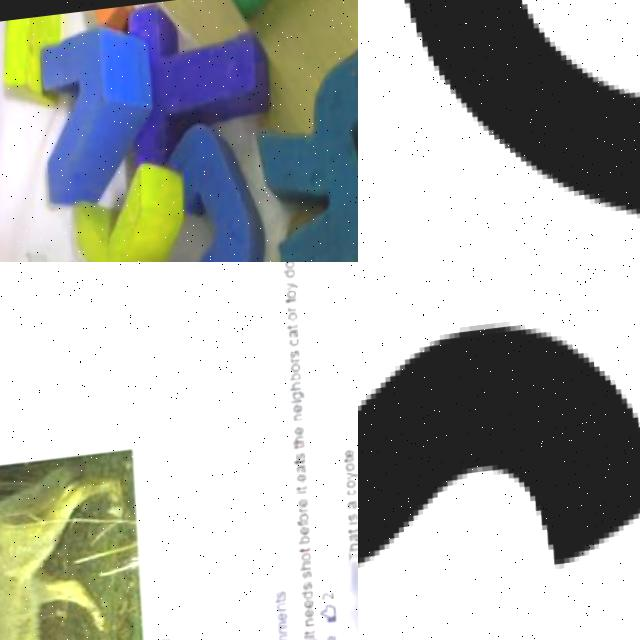2: (325, 590, 340, 600)
A: (289, 328, 302, 338), (299, 463, 311, 472), (350, 498, 358, 508), (351, 532, 358, 541)
B: (289, 370, 304, 380), (301, 534, 315, 544)
C: (290, 338, 302, 345), (350, 488, 358, 495)
D: (282, 268, 297, 278), (305, 589, 319, 599)
E: (282, 610, 295, 620), (345, 448, 358, 457), (300, 471, 311, 481), (295, 402, 306, 412), (309, 598, 319, 608), (302, 497, 312, 507), (309, 608, 321, 616), (304, 525, 314, 534), (297, 424, 307, 433), (332, 633, 342, 640), (164, 637, 177, 640)
F: (300, 518, 314, 526)
G: (294, 388, 308, 398)
H: (294, 434, 309, 444), (290, 380, 305, 390), (304, 560, 316, 570), (350, 541, 358, 551)
I: (308, 633, 322, 638), (292, 399, 305, 404), (299, 489, 311, 494), (349, 519, 358, 524)
K: (240, 15, 358, 262)
M: (282, 619, 295, 634), (282, 632, 296, 640)
N: (295, 411, 307, 420), (310, 617, 321, 626), (281, 602, 293, 610)
O: (358, 0, 640, 262), (291, 362, 304, 372), (289, 311, 300, 321), (287, 288, 298, 298), (346, 461, 358, 470), (305, 552, 317, 560), (303, 512, 313, 521), (349, 477, 358, 487), (284, 262, 296, 267)
R: (289, 304, 299, 311), (292, 355, 302, 361), (303, 505, 312, 511)
S: (358, 297, 640, 622), (280, 589, 292, 598), (298, 450, 310, 459), (291, 348, 303, 357), (307, 580, 319, 588), (307, 569, 317, 578), (350, 511, 358, 520)
T: (302, 544, 316, 552), (286, 322, 300, 330), (284, 296, 299, 303), (298, 483, 312, 490), (345, 455, 358, 462), (279, 596, 294, 602), (350, 549, 358, 559), (296, 458, 309, 464), (309, 628, 321, 634), (296, 442, 308, 448), (350, 527, 358, 533)
V: (23, 16, 167, 202)
X: (57, 151, 217, 262)
Y: (286, 279, 301, 289), (347, 469, 358, 479)
